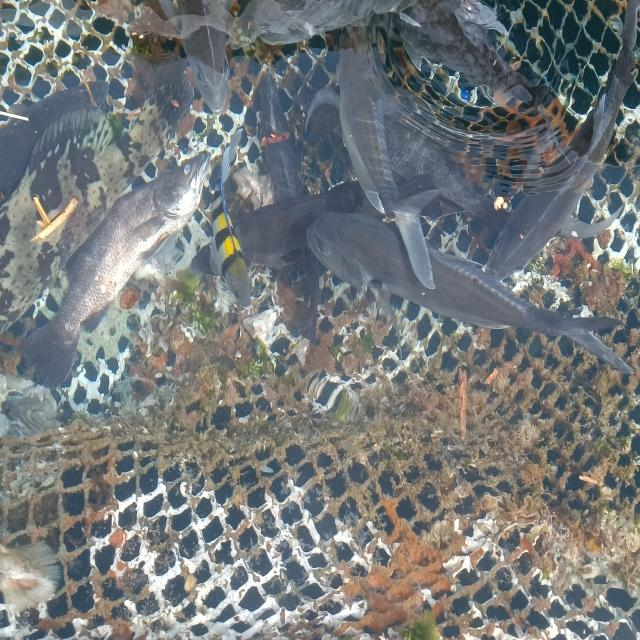ikan: (14, 158, 213, 378), (393, 232, 640, 356), (341, 32, 446, 294), (133, 1, 241, 118)
